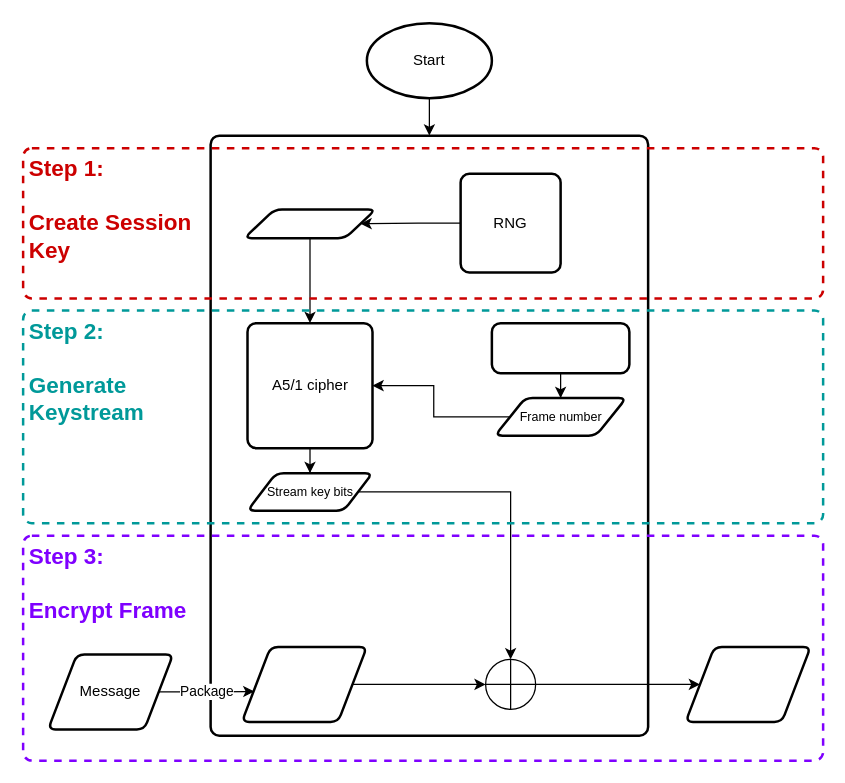
The diagram is 845 pixels wide and 783 high, and some of its shapes have lost their labels. The centre of each missing label's shape, as x and y in pixels:
Cipher text: the point at 747,683
Frame: the point at 304,683
Frame counter: the point at 560,347
Session Key: the point at 309,223
